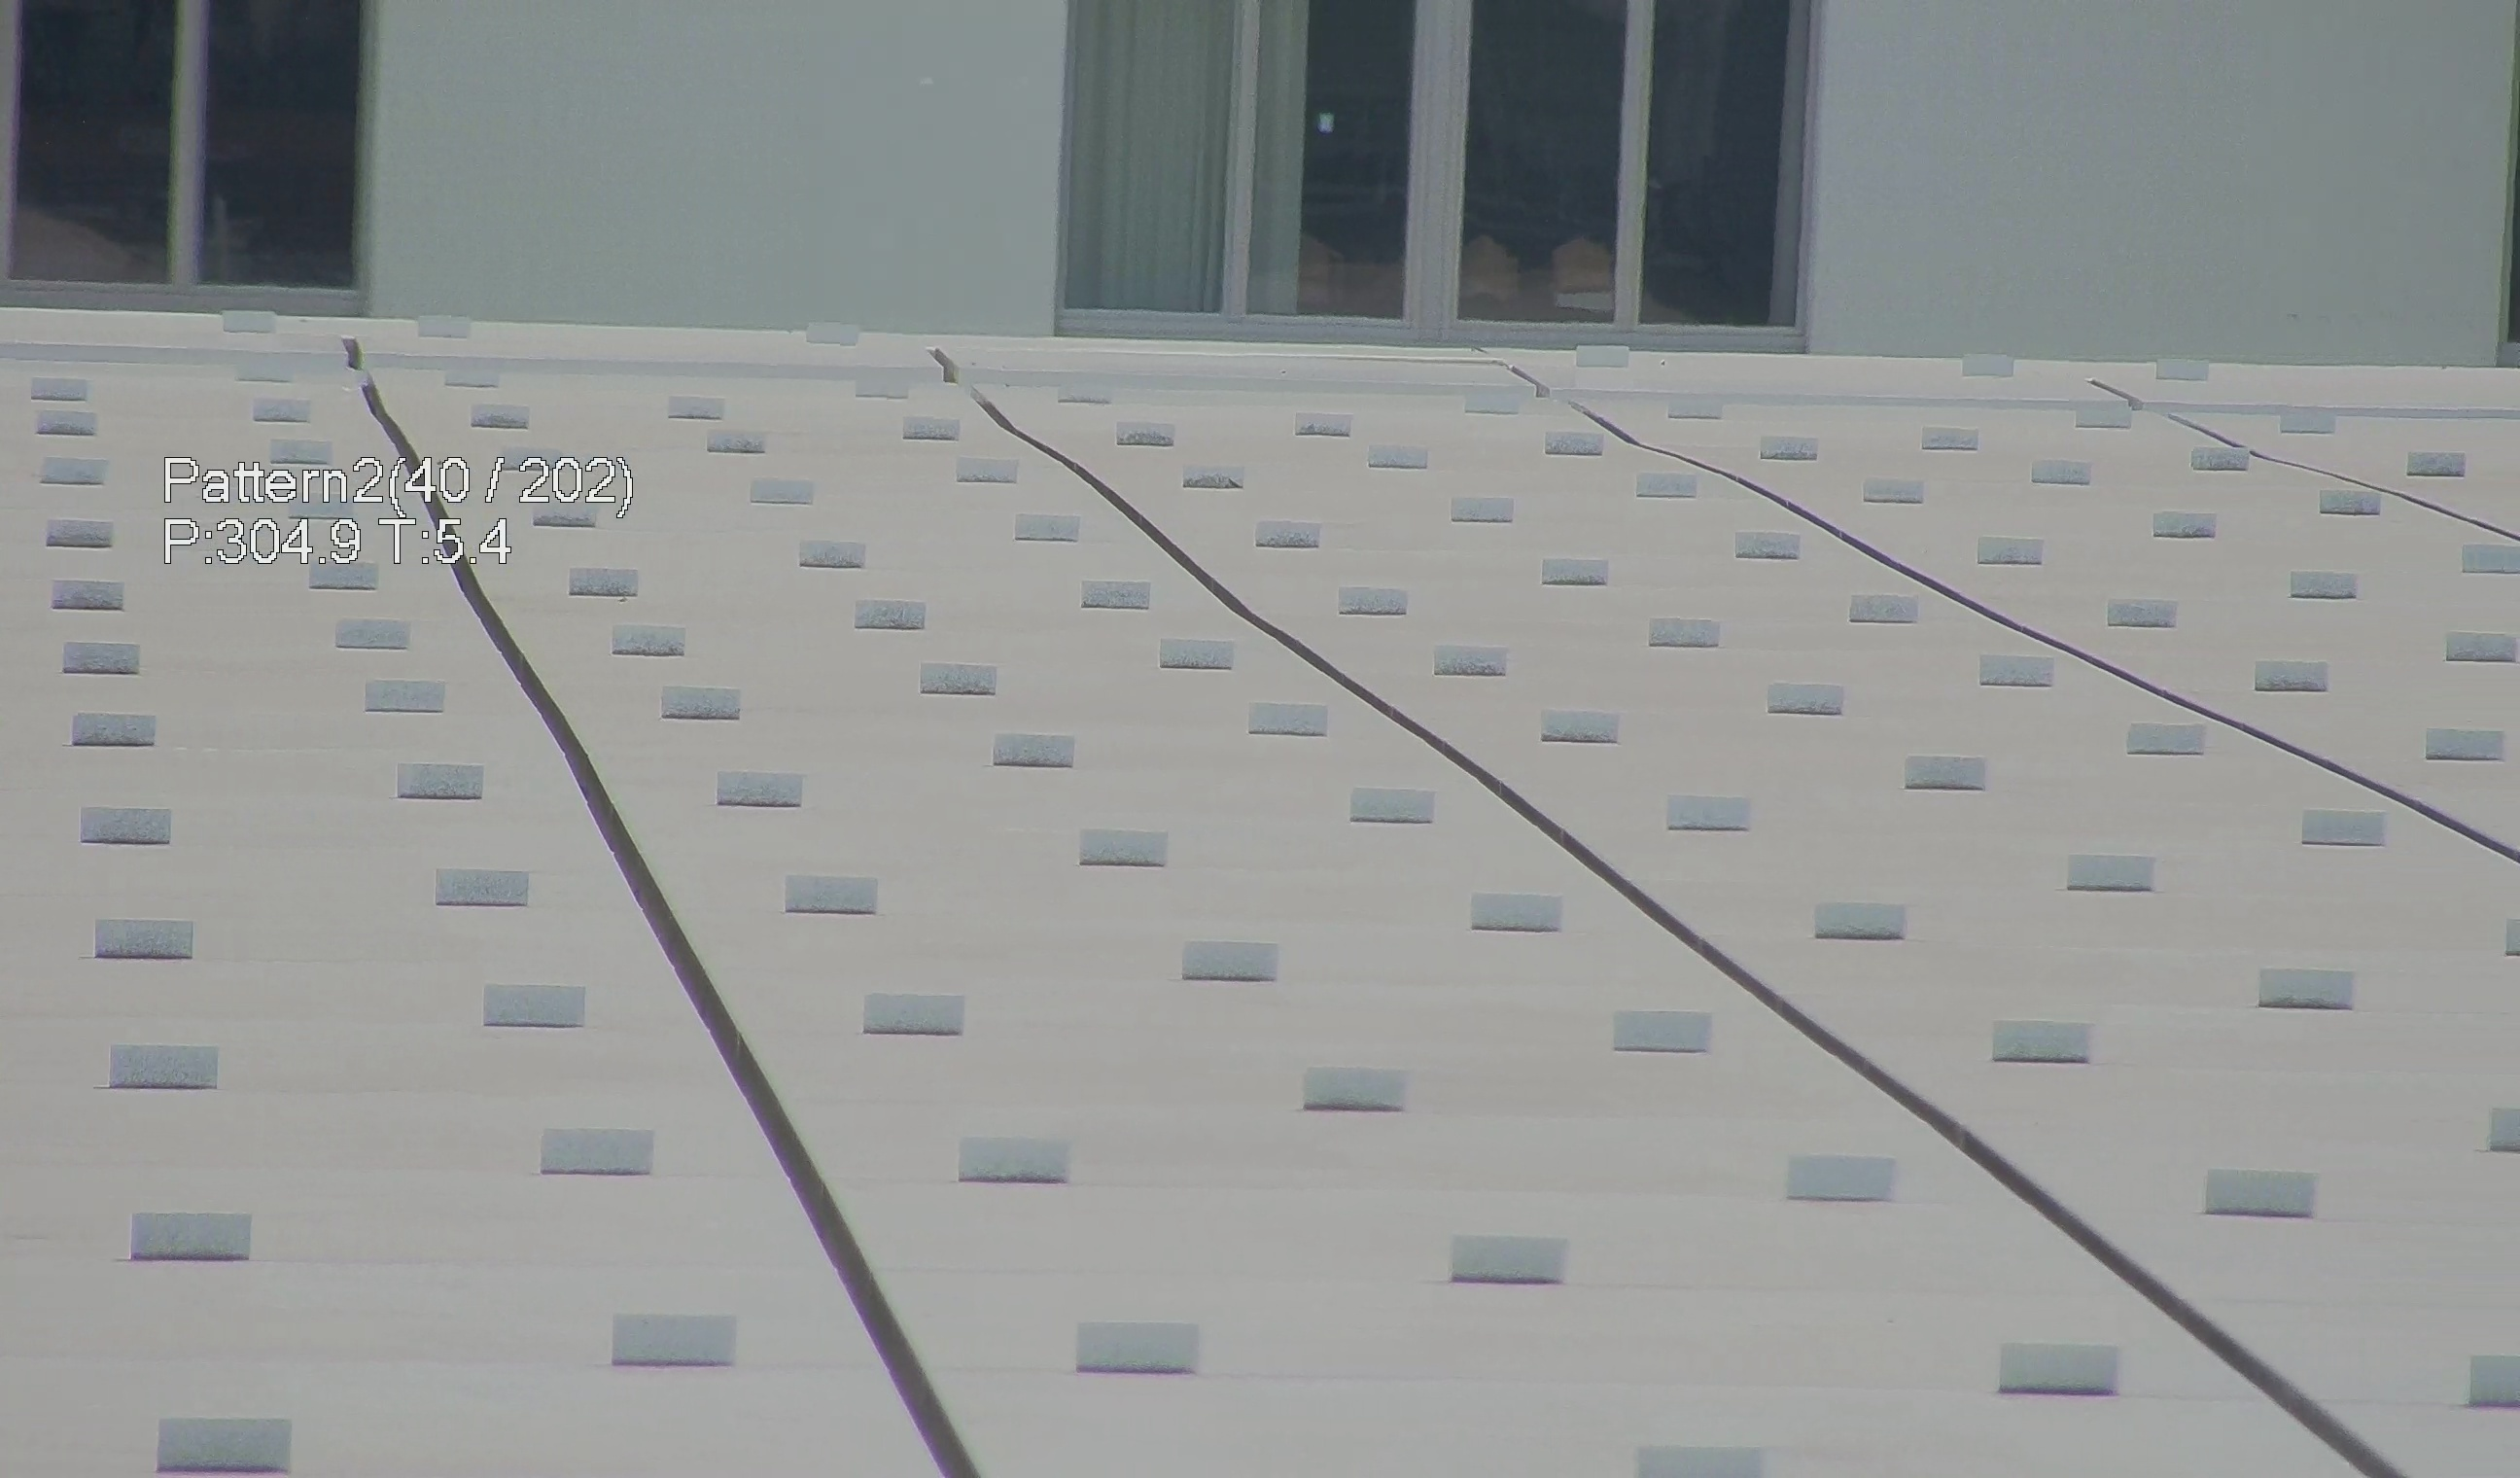Other: (317, 340, 438, 491)
